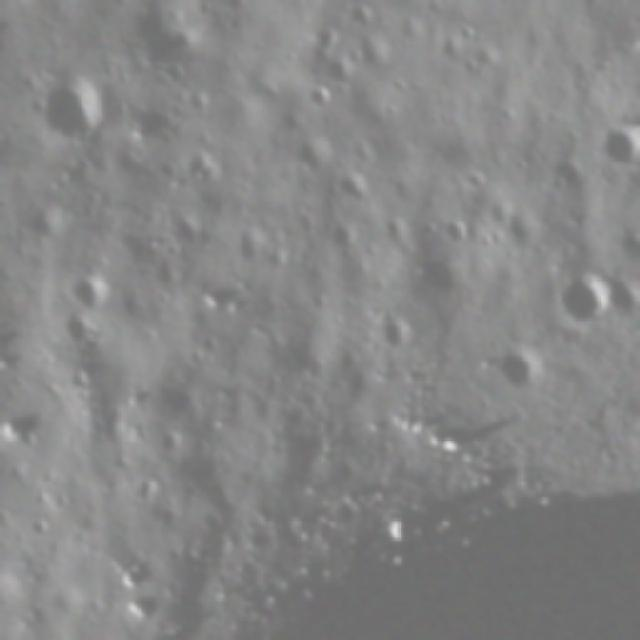crater: (129, 0, 211, 77), (31, 62, 103, 144), (548, 261, 615, 334), (478, 348, 544, 398), (597, 120, 640, 172), (370, 307, 413, 359), (65, 262, 109, 310), (604, 273, 640, 326), (291, 136, 334, 172), (335, 168, 370, 207), (303, 81, 340, 117), (60, 315, 94, 353), (614, 226, 640, 272), (442, 214, 473, 248), (308, 27, 343, 56), (627, 55, 640, 126)
